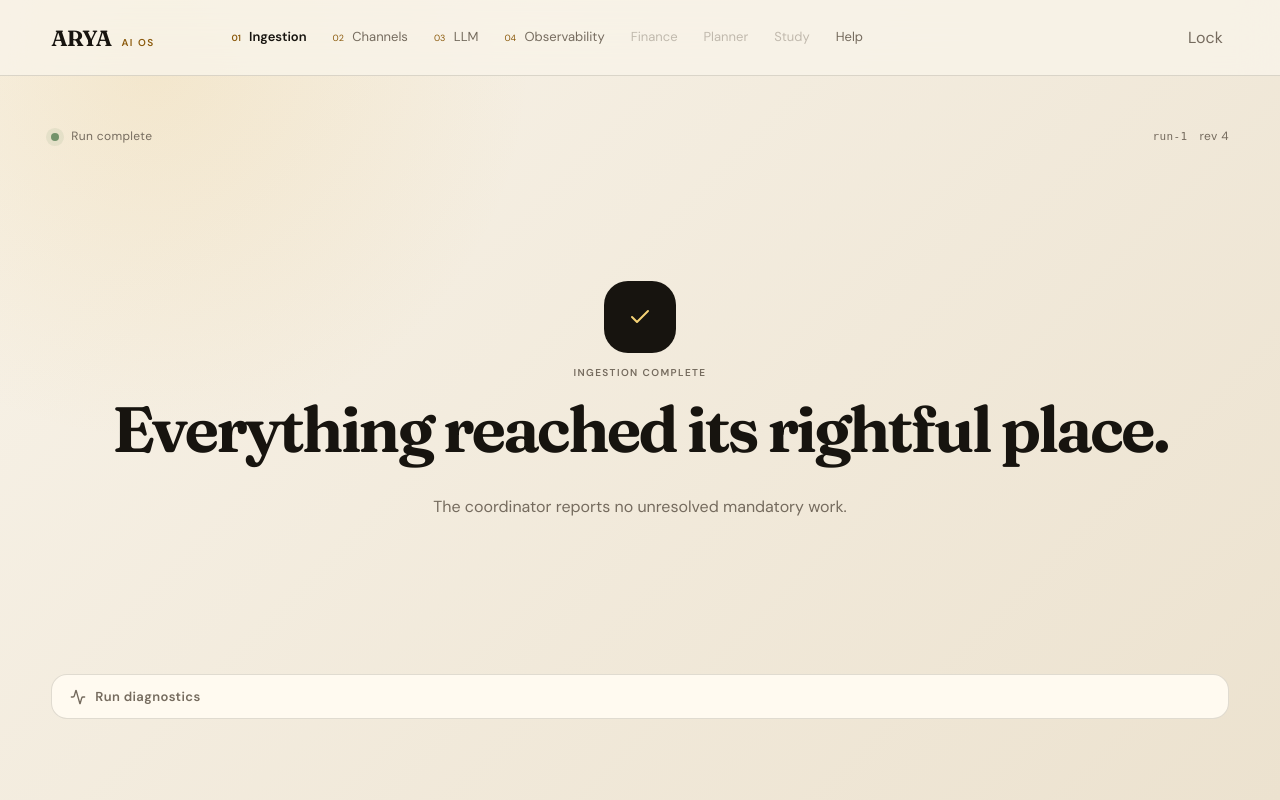
run diagnostics › renders the durable terminal report once the run reaches a terminal result
Click the heading "Run diagnostics".
click(135, 697)  # box [70,688,201,705]
(page scrolled)
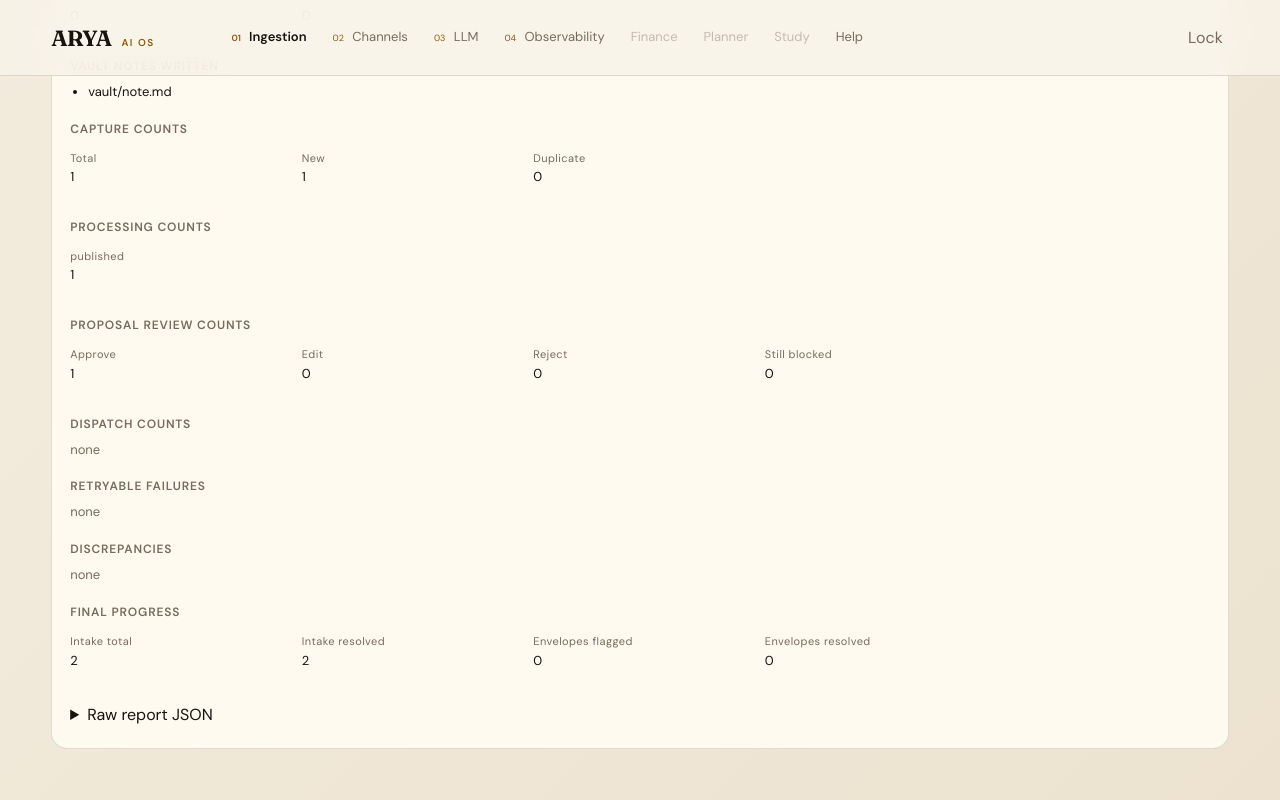
Check: the list item "vault/note.md" is shown, box [88,83,172,100]
Check: the text "none" below "Discrepancies" is shown, box [70,566,100,583]
